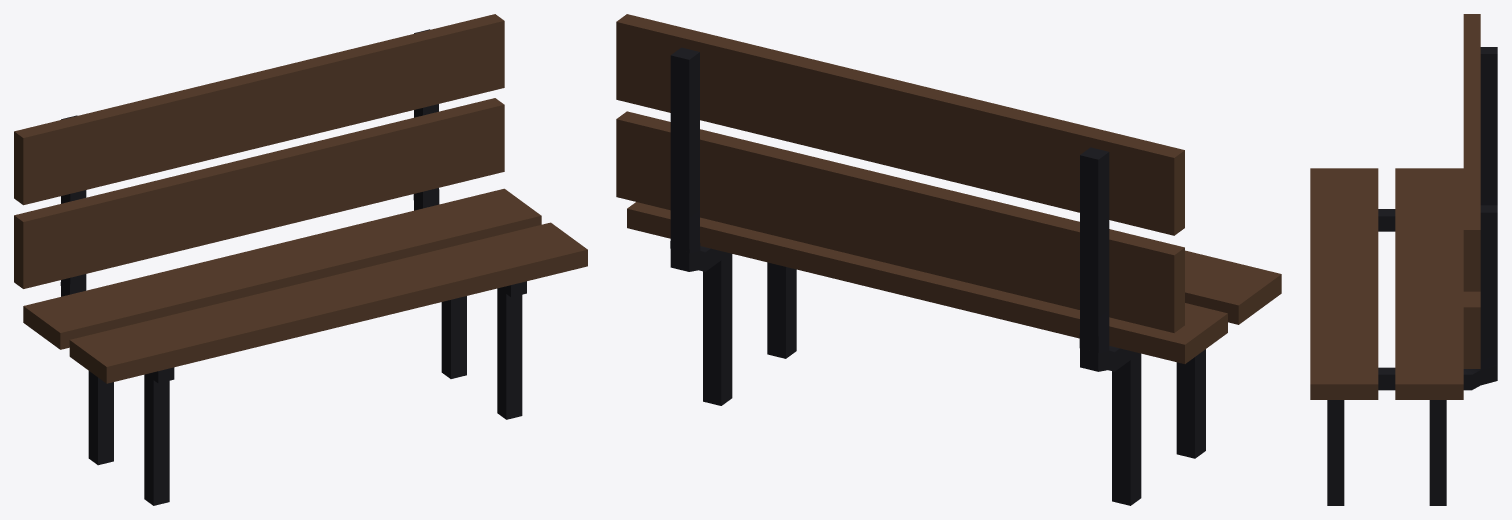
The model's file is bench.glb.
The picture shows the model from 3 angles, left to right: view 1: azimuth 30°, elevation 25°; view 2: azimuth 150°, elevation 25°; view 3: azimuth 270°, elevation 25°; orthographic projection. The views are drawn at different scales.
Visible parts, largest first — view 1: Banc; view 2: Banc; view 3: Banc.
Part boxes in pixels (x1,y1,x2,y2): Banc: [14, 14, 587, 505]; Banc: [616, 14, 1281, 505]; Banc: [1310, 14, 1497, 505].
Size of the model in its own units: 7.5 by 4.88 by 2.75.
